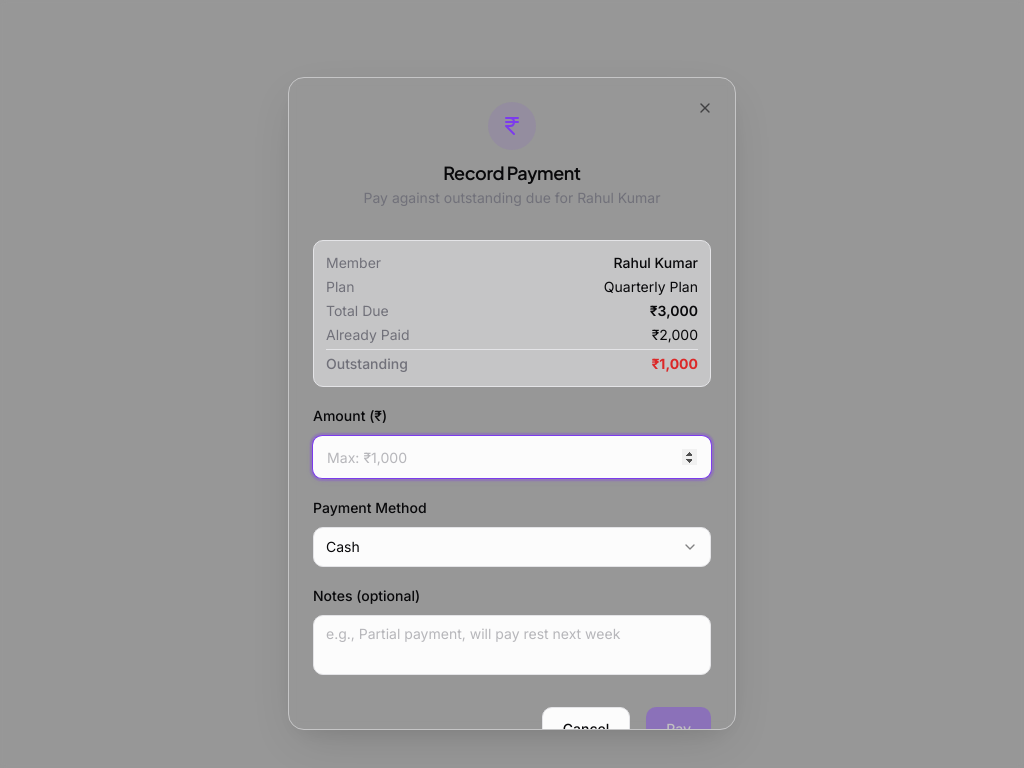
Test case: PayDueModal › shows validation error for overpayment
The image size is (1024, 768).
In the number field labelled "Amount (₹)": {"x": 512, "y": 457} [312, 435, 712, 479], type "2000"
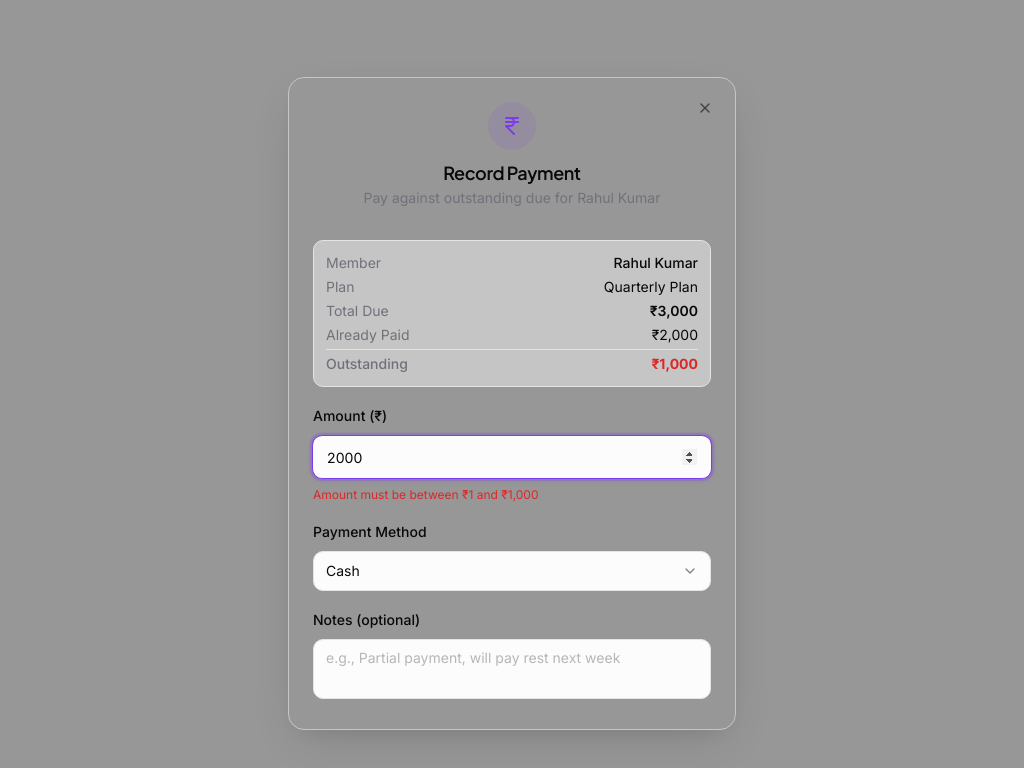
Result: the text "Amount must be between ₹1 and ₹1,000" is shown at [313, 487, 538, 502]
